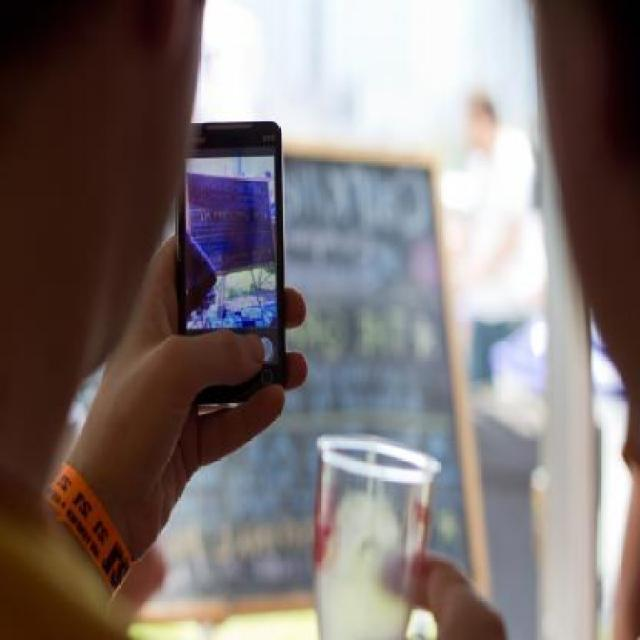phone: (165, 118, 291, 400)
